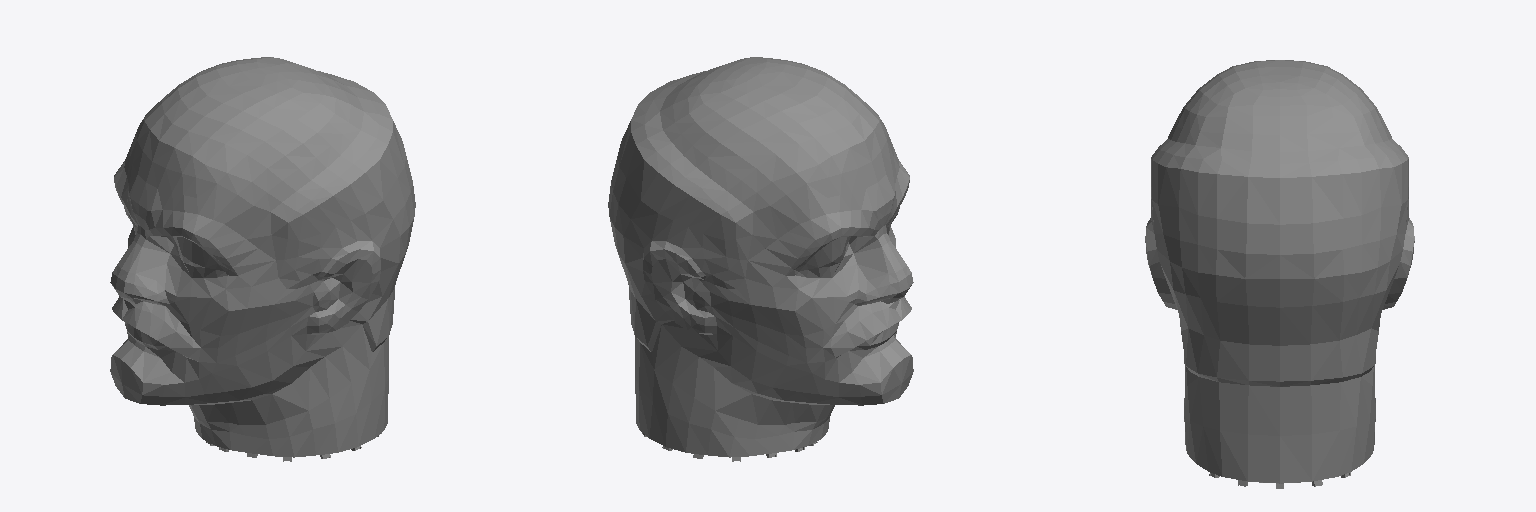
Rendered from lenin.obj.
3 renders of one model, left to right at view 1: azimuth 30°, elevation 25°; view 2: azimuth 150°, elevation 25°; view 3: azimuth 270°, elevation 25°, orthographic.
Parts seen in each view (by area): view 1: Mesh_0156; view 2: Mesh_0156; view 3: Mesh_0156.
Boxes of the visible parts, box(x1,y1,x2,y2) form: Mesh_0156: box(110, 57, 415, 461); Mesh_0156: box(608, 57, 913, 461); Mesh_0156: box(1145, 60, 1414, 488).
Bounding box in the file's own units: 16719 × 20344 × 13899.